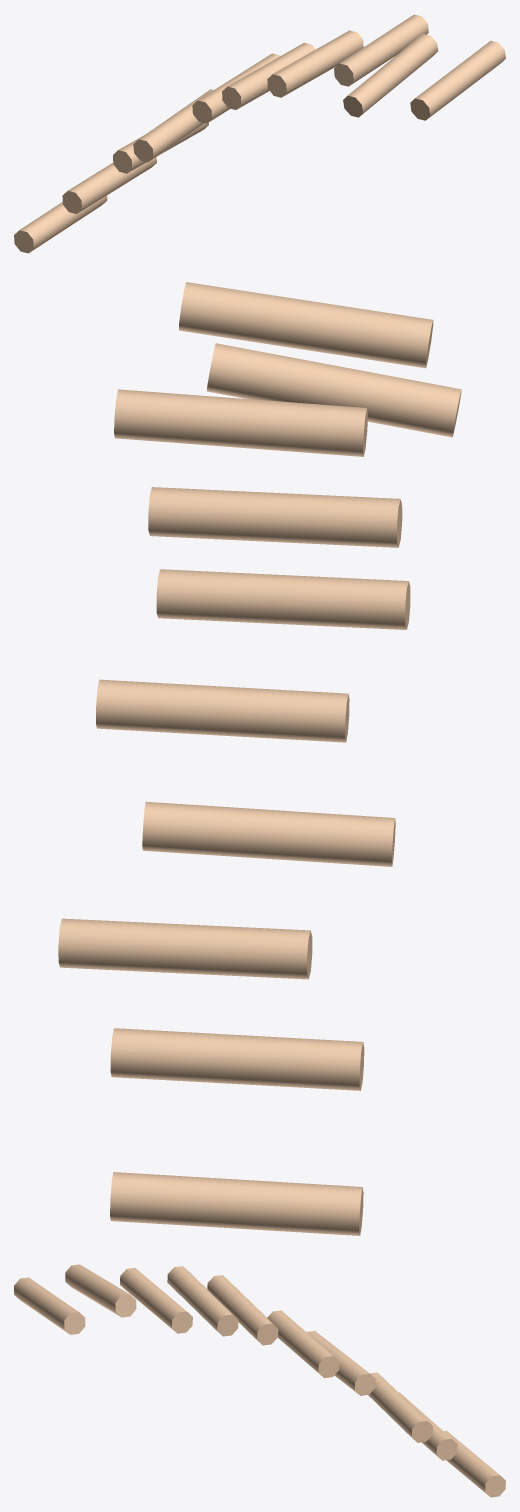
The model's file is SlideTunnel_Ladder.fbx.
3 renders of one model, top to bottom at view 1: azimuth 30°, elevation 25°; view 2: azimuth 150°, elevation 25°; view 3: azimuth 270°, elevation 25°, orthographic. The views are drawn at different scales.
Visible parts, largest first — view 1: SlideTunnel_Ladder; view 2: SlideTunnel_Ladder; view 3: SlideTunnel_Ladder.
Boxes of the visible parts, <box> form: SlideTunnel_Ladder: <box>14,14,505,253</box>; SlideTunnel_Ladder: <box>58,282,461,1235</box>; SlideTunnel_Ladder: <box>14,1264,505,1497</box>.
Size of the model in its own units: 150 by 139 by 227.
